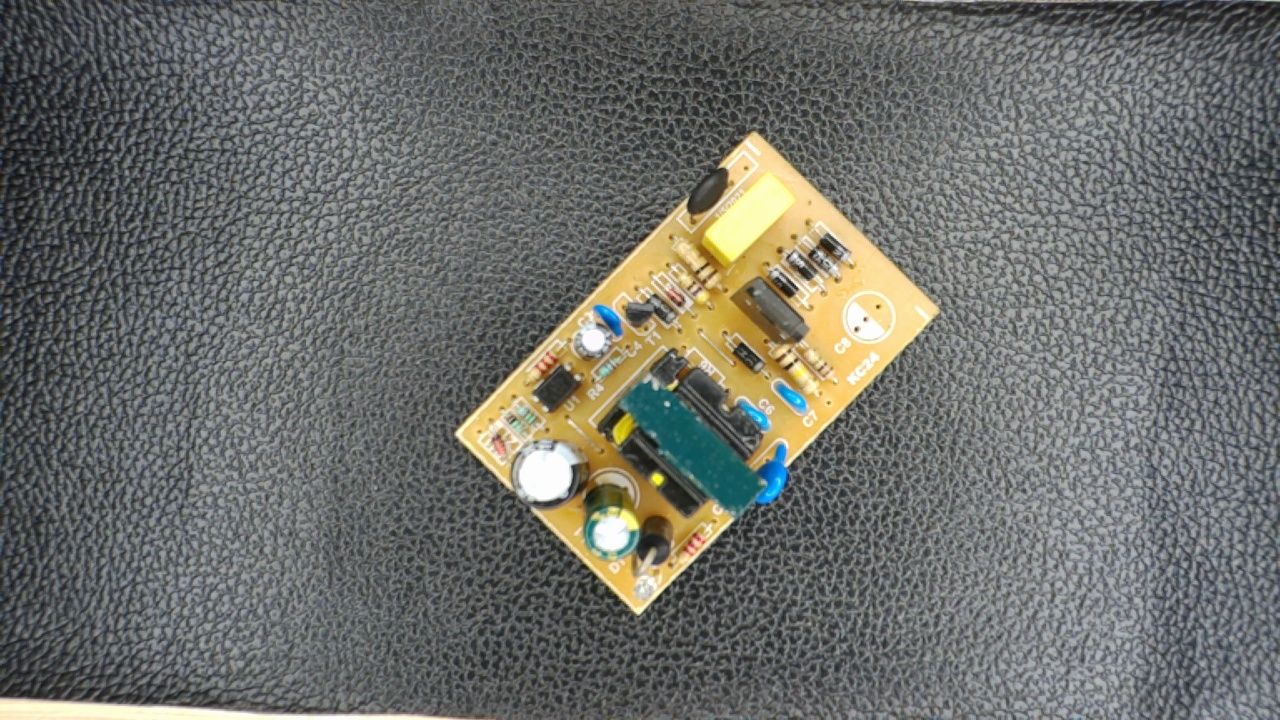fuse: (680, 161, 740, 227)
mov: (747, 437, 792, 510)
optocoupler: (524, 365, 585, 413)
